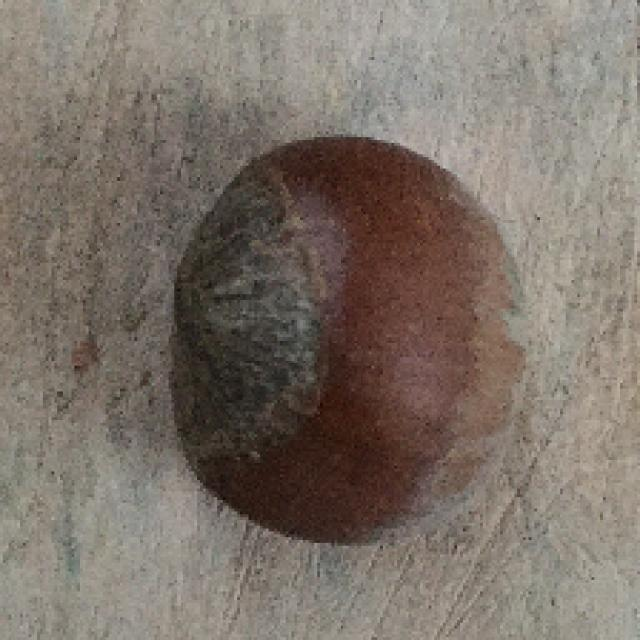damagedHazelnut: (172, 124, 538, 556)
